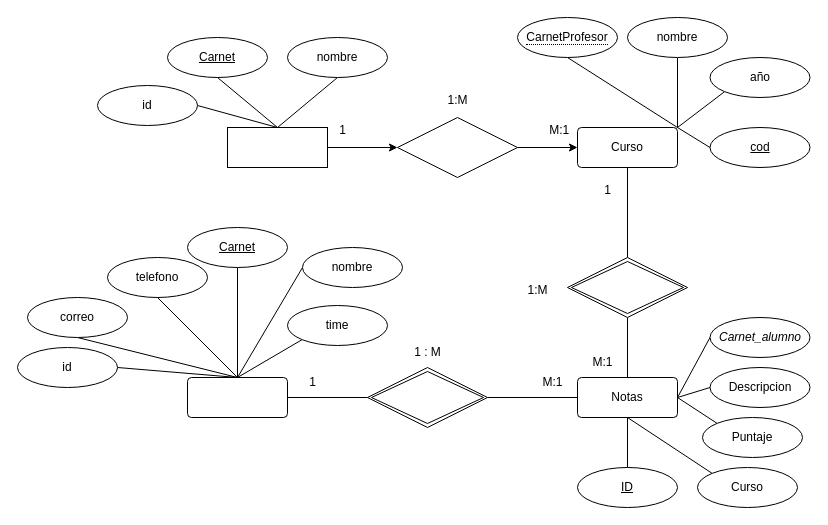
The diagram is 828 pixels wide and 525 high, and some of its shapes have lost their labels. Here are the shapes that lost their labels. From the top down, the centre of each, then its label:
At (277,147): "Profesor".
At (457,147): "Imparte".
At (627,287): "Obtiene".
At (237,397): "Alumnos".
At (427,397): "Tiene".
